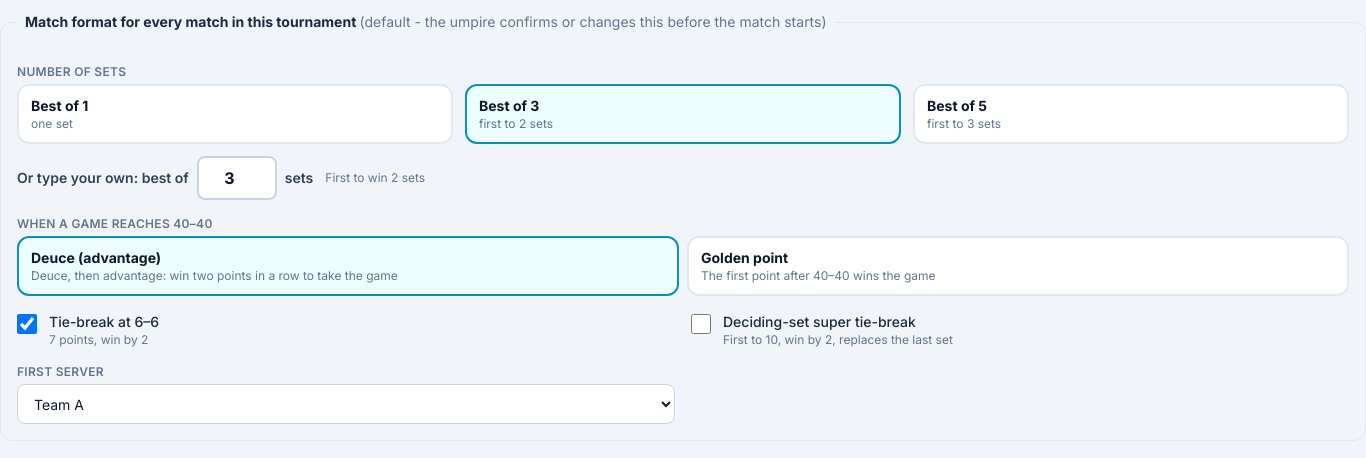
it: RulesEditor (match and tournament forms) › lets the organiser choose best of 1, 3 or 5
Click the radio button labelled "Best of 5 first to 3 sets": (953, 106) [913,84,1349,144]
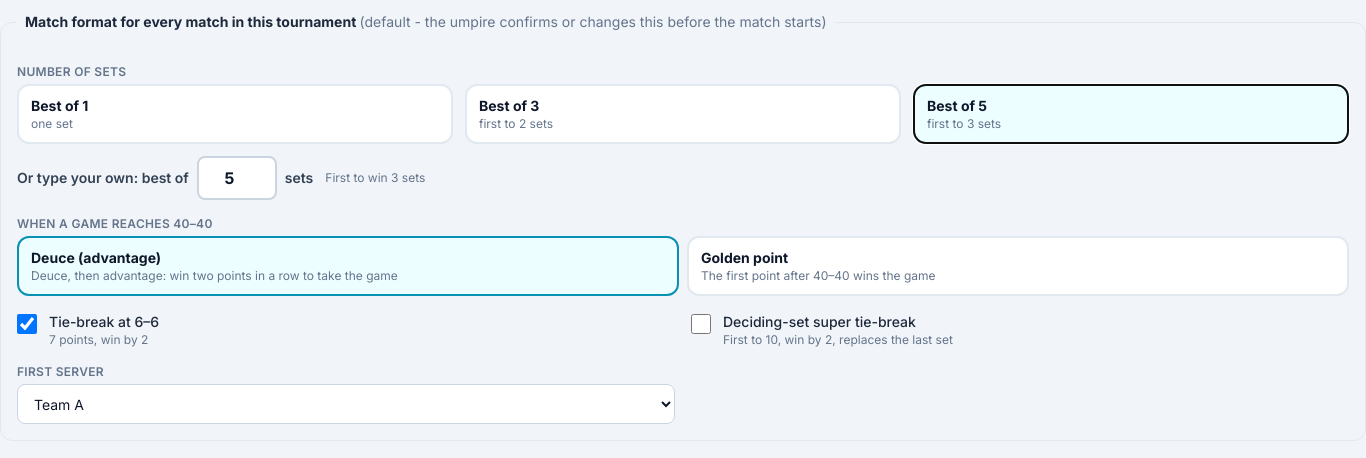
expect the radio button labelled "Best of 5 first to 3 sets" is checked: met, box [913,84,1349,144]
Click the radio button labelled "Best of 1 one set": (57, 106) [17,84,453,144]
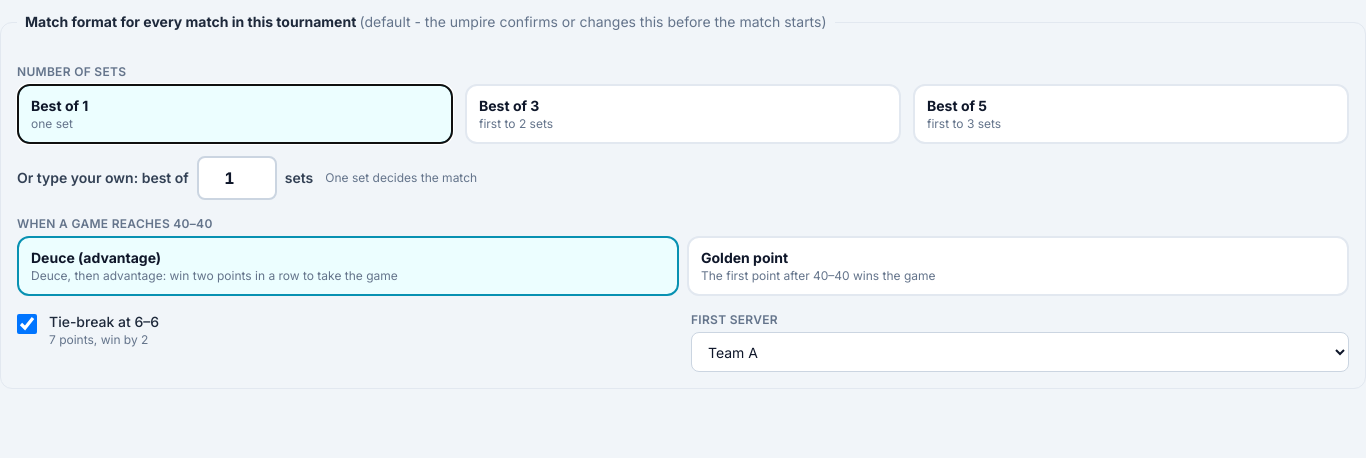
expect the text "super tie-break" is gone: met
